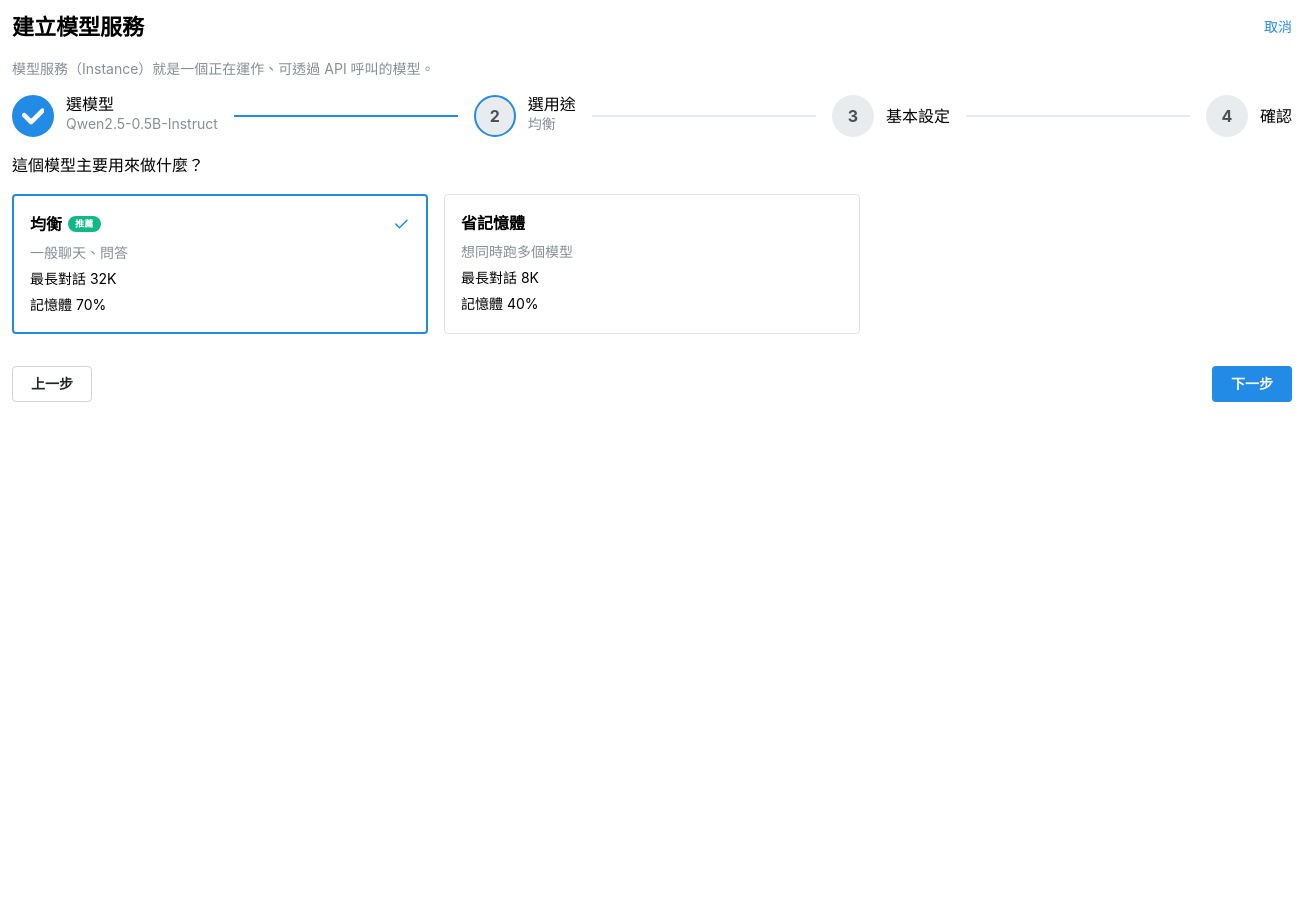
Scenario: CreateServicePage › disables create when the plan is blocking
The width and height of the screenshot is (1304, 912).
Expected: the button with test id "preset-balanced" is shown, 12,194 -> 428,334
Click the button "下一步".
click(1252, 384)  # box 1212,366 -> 1292,402
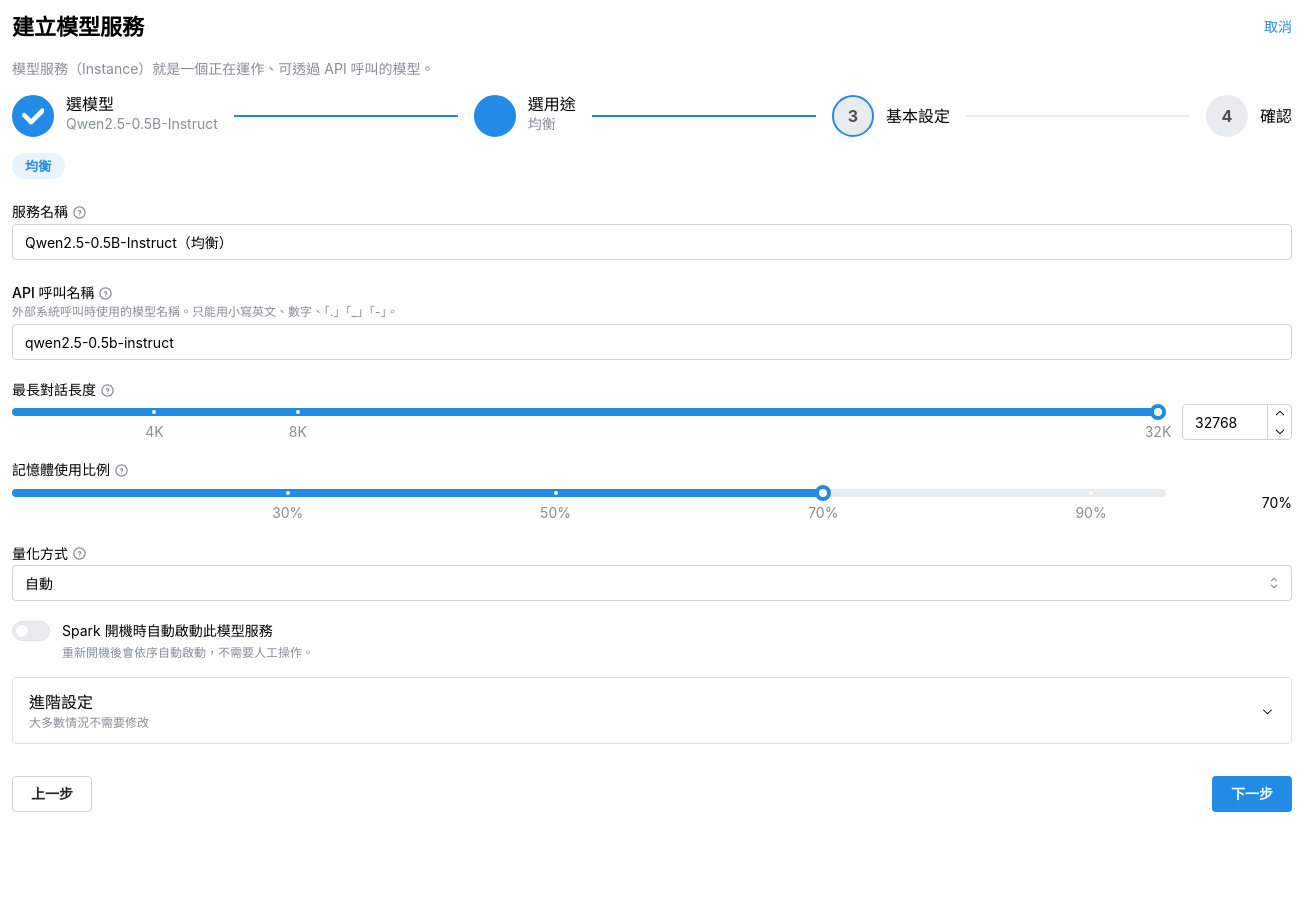
Result: the text "最長對話長度" is shown at 12,380 -> 96,400
Click the button "下一步".
click(1252, 794)  # box 1212,776 -> 1292,812
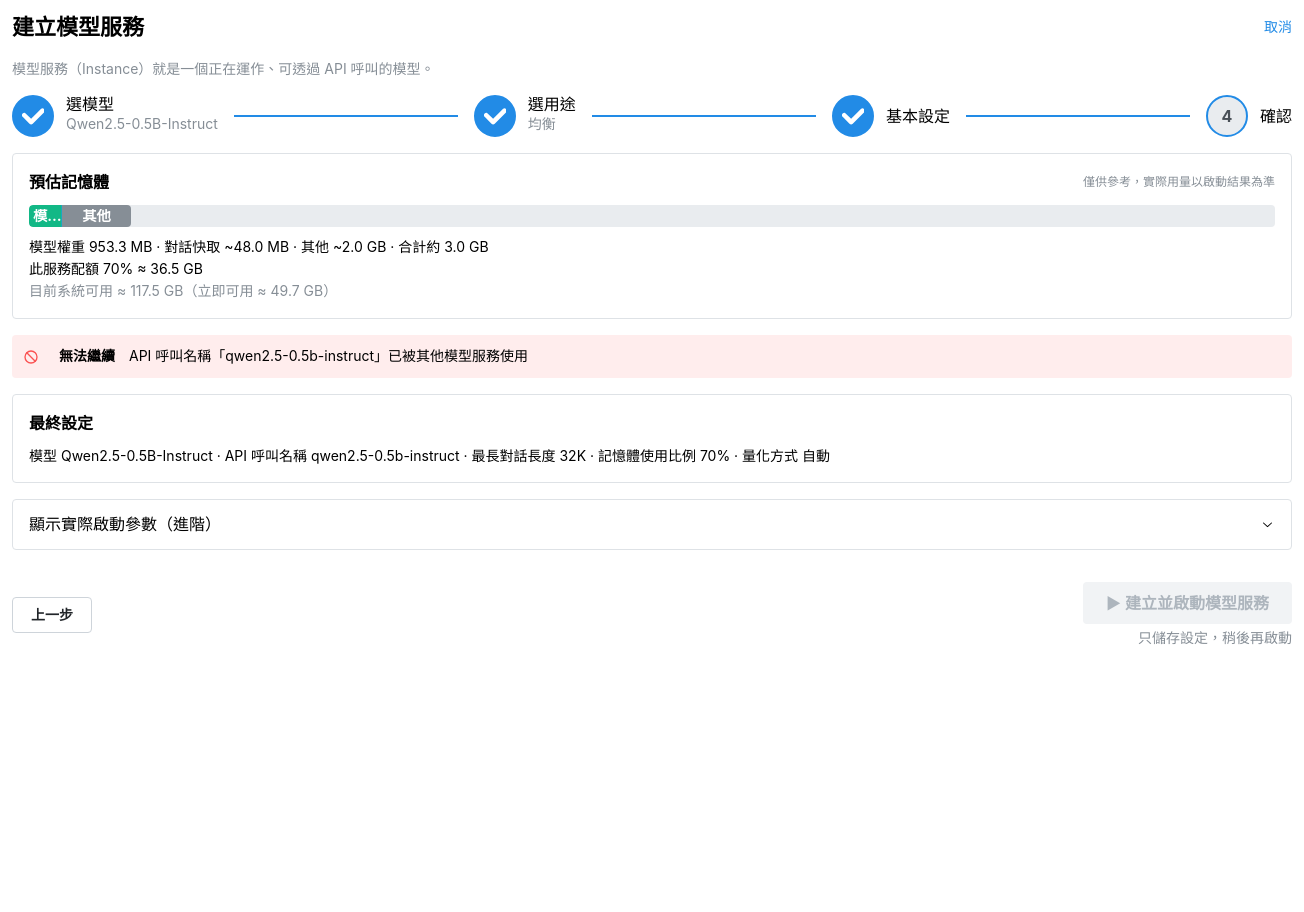
Result: the text "無法繼續 API 呼叫名稱「qwen2.5-0.5b-instruct」已被其他模型服務使用" is shown at 59,347 -> 528,364
Result: the button with test id "create-and-start" is disabled at 1083,582 -> 1292,624
